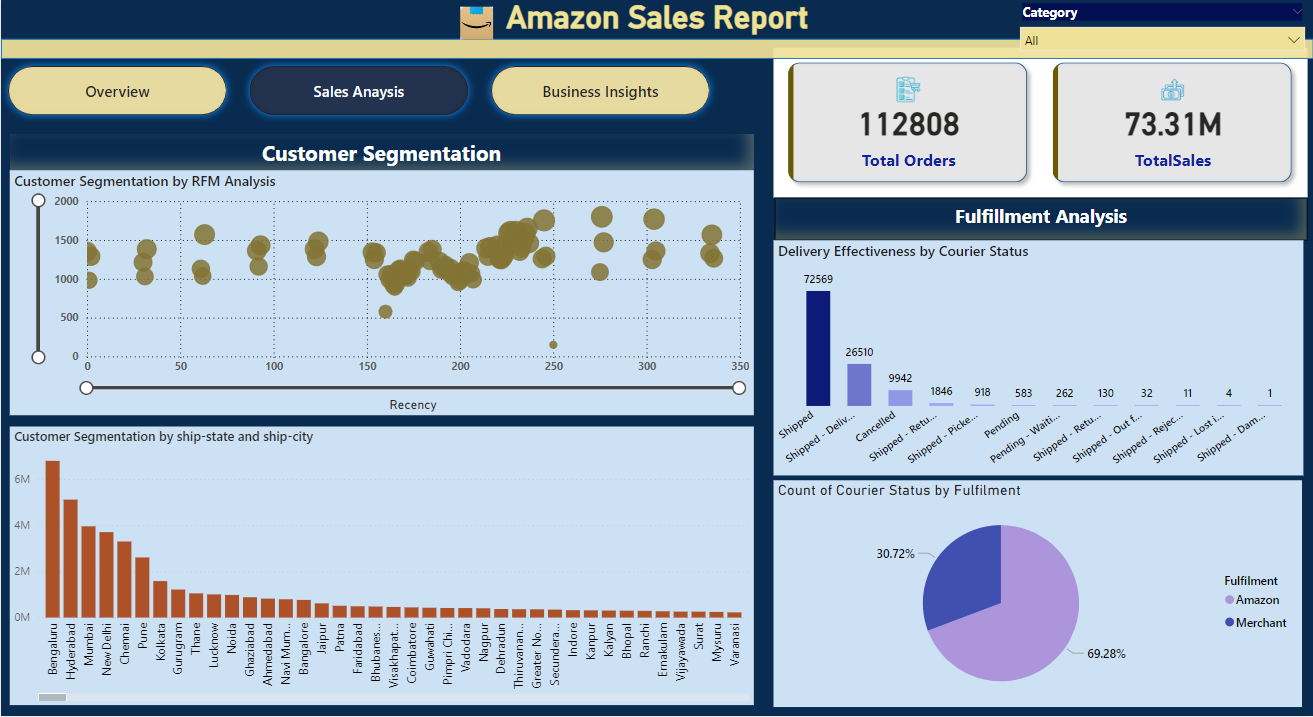

Layout of this report page (visuals, bound fields, positions):
{"tool":"powerbi","page":{"name":"Sales Anaysis","canvas":[1500,820],"ordinal":1},"visuals":[{"type":"cardVisual","fields":{"Data":["Amazon Sale Report.Total Orders","Amazon Sale Report.TotalSales"]},"box":[882.9,55.7,610,171.4],"z":0},{"type":"shape","title":"Amazon Sales Report","box":[0,0,1500,68.6],"z":1000},{"type":"slicer","fields":{"Values":["Amazon Sale Report.Category"]},"box":[1154.3,0,345.7,68.6],"z":2000},{"type":"textbox","box":[884.3,227.1,608.6,48.6],"z":3000},{"type":"textbox","box":[10,153.8,850,42.5],"z":4000},{"type":"pieChart","fields":{"Category":["Amazon Sale Report.Fulfilment"],"Y":["CountNonNull(Amazon Sale Report.Courier Status)"]},"box":[883,550,604.3,259],"z":5000},{"type":"columnChart","title":"Delivery Effectiveness by Courier Status","fields":{"Category":["Amazon Sale Report.Status"],"Y":["CountNonNull(Amazon Sale Report.Fulfilment)"]},"box":[882.9,275.7,605.7,268.6],"z":6000},{"type":"pageNavigator","box":[0,68.6,820,72.9],"z":7000},{"type":"scatterChart","title":"Customer Segmentation by  RFM Analysis","fields":{"Size":["Amazon Sale Report.Monetary"],"Y":["Amazon Sale Report.Frequency"],"X":["Amazon Sale Report.Recency"]},"box":[10,196.2,850,280],"z":8000},{"type":"columnChart","title":"Customer Segmentation  by ship-state and ship-city","fields":{"Y":["Amazon Sale Report.TotalSales"],"Category":["Amazon Sale Report.ship-city"]},"box":[10,488.6,850,318.6],"z":9000},{"type":"image","box":[520,0,47.1,55.7],"z":10000}]}

Visuals, with their boxes in screenshot pixels (x1, y1, x2, y2), scaled from the page's 1500x820 canvas onto the 1313x717 screenshot:
cardVisual - Amazon Sale Report.Total Orders x Amazon Sale Report.TotalSales: select_region(773, 49, 1307, 199)
"Amazon Sales Report" shape: select_region(0, 0, 1312, 60)
slicer - Amazon Sale Report.Category: select_region(1010, 0, 1312, 60)
textbox: select_region(774, 199, 1307, 241)
textbox: select_region(9, 134, 753, 172)
pieChart - Amazon Sale Report.Fulfilment x CountNonNull(Amazon Sale Report.Courier Status): select_region(773, 481, 1302, 707)
"Delivery Effectiveness by Courier Status" columnChart: select_region(773, 241, 1303, 476)
pageNavigator: select_region(0, 60, 718, 124)
"Customer Segmentation by  RFM Analysis" scatterChart: select_region(9, 172, 753, 416)
"Customer Segmentation  by ship-state and ship-city" columnChart: select_region(9, 427, 753, 706)
image: select_region(455, 0, 496, 49)
